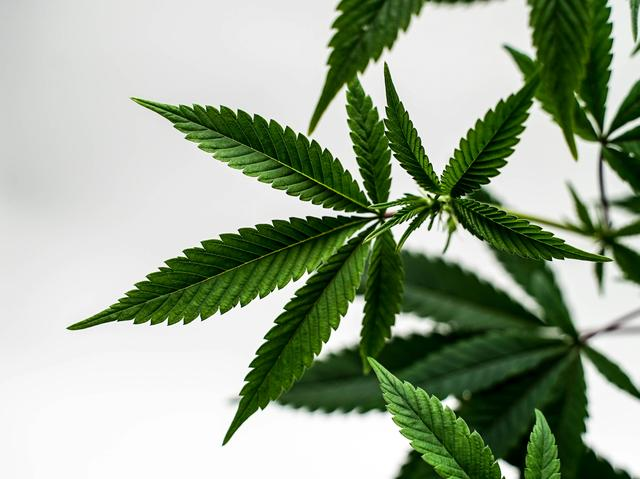Marijuana Bud: (60, 72, 404, 451), (378, 62, 609, 274)
